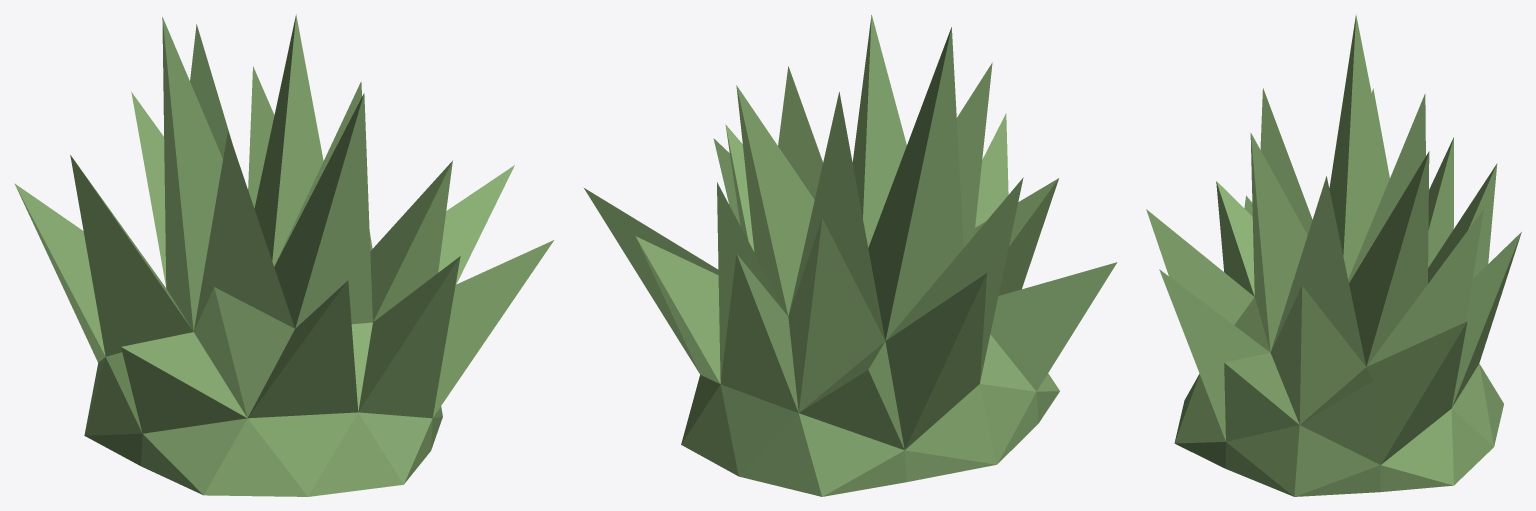
File: shrub.fbx
3 views of the same model, side by side, from view 1: azimuth 30°, elevation 25°; view 2: azimuth 150°, elevation 25°; view 3: azimuth 270°, elevation 25° (orthographic). The views are drawn at different scales.
Parts seen in each view (by area): view 1: pSolid1; view 2: pSolid1; view 3: pSolid1.
Boxes of the visible parts, bbox=[...] form: pSolid1: bbox=[14, 14, 553, 496]; pSolid1: bbox=[583, 15, 1117, 496]; pSolid1: bbox=[1146, 14, 1521, 496].
Size of the model in its own units: 9.42 by 8.38 by 7.53.
